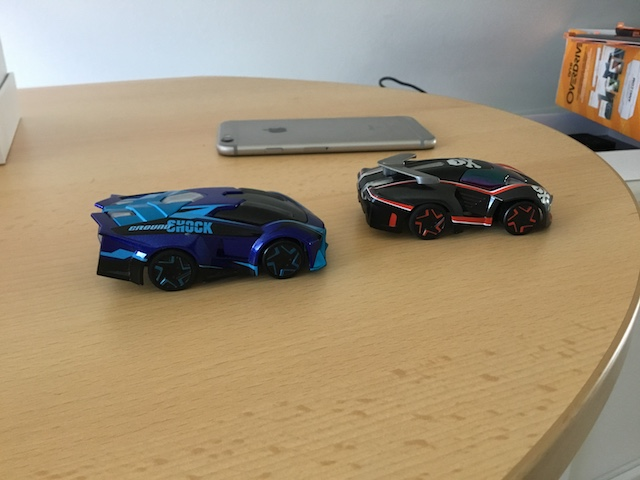car-blue: (86, 182, 331, 294)
car-red: (354, 151, 559, 242)
phone: (214, 113, 438, 158)
